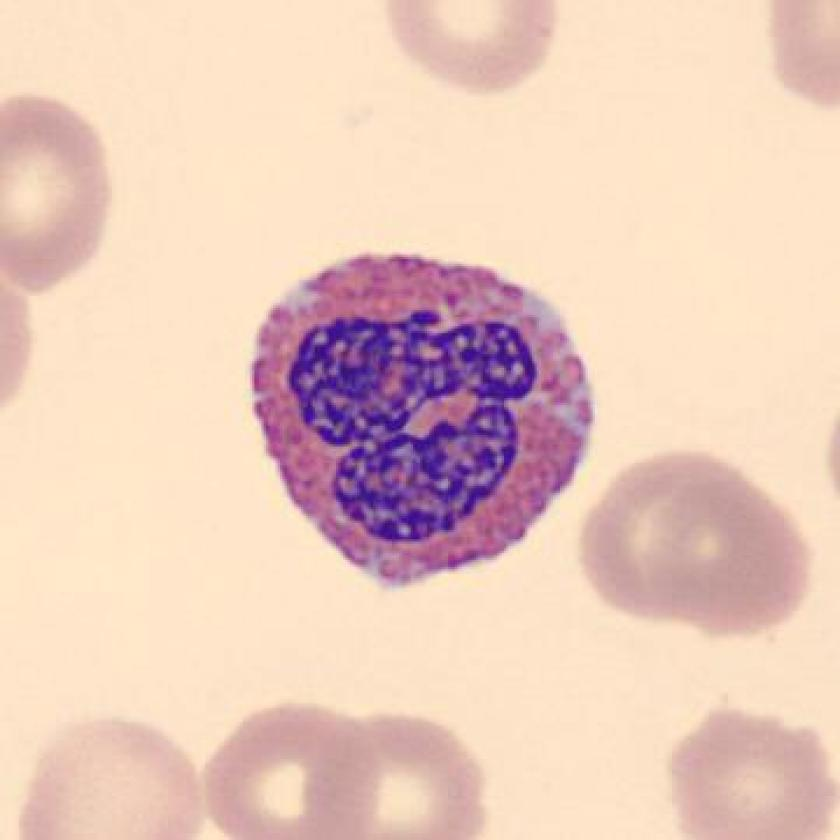eosinophil: (242, 242, 613, 598)
